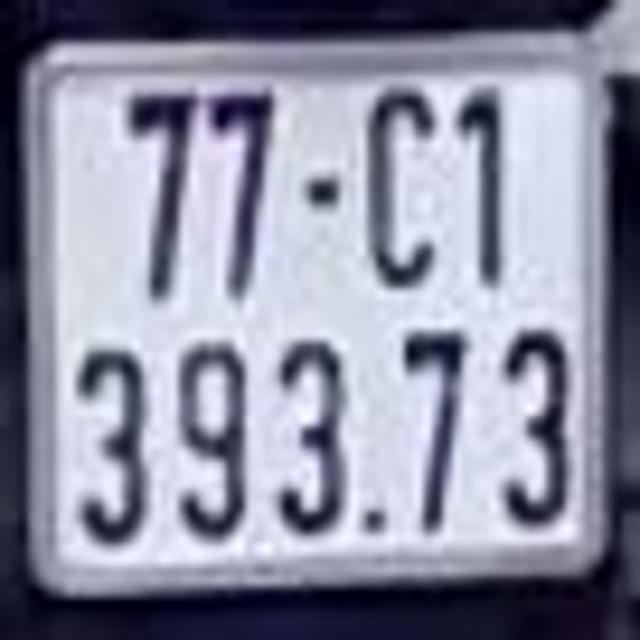1: (458, 87, 505, 283)
3: (75, 348, 151, 543), (280, 340, 343, 527), (508, 328, 565, 523)
7: (126, 92, 196, 298), (207, 93, 275, 298), (402, 333, 457, 530)
9: (175, 345, 245, 537)
C: (364, 89, 439, 287)
